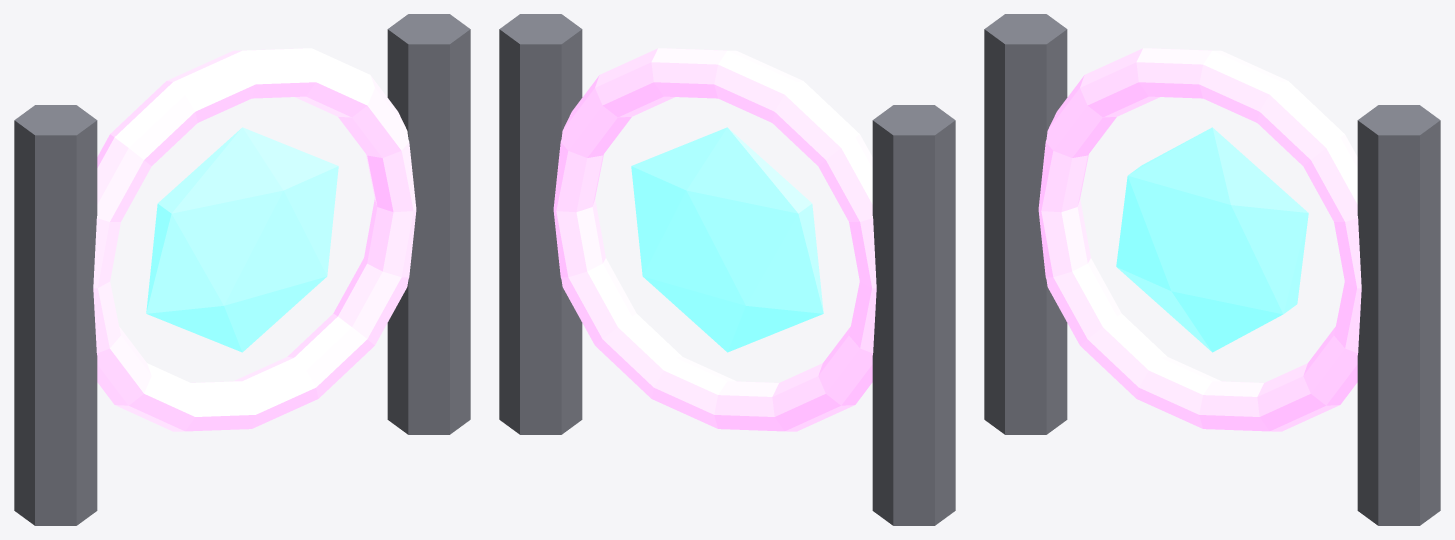
Rendered from portal_gate.glb.
The picture shows the model from 3 angles, left to right: view 1: azimuth 30°, elevation 25°; view 2: azimuth 150°, elevation 25°; view 3: azimuth 330°, elevation 25°; orthographic projection.
Visible parts, largest first — view 1: PortalPillarL; view 2: PortalPillarL; view 3: PortalPillarL.
Part boxes in pixels (bbox=[...]): PortalPillarL: bbox=[14, 14, 470, 525]; PortalPillarL: bbox=[499, 14, 955, 525]; PortalPillarL: bbox=[984, 14, 1440, 525].
Bounding box in the file's own units: 3.03 × 2.76 × 0.5.
